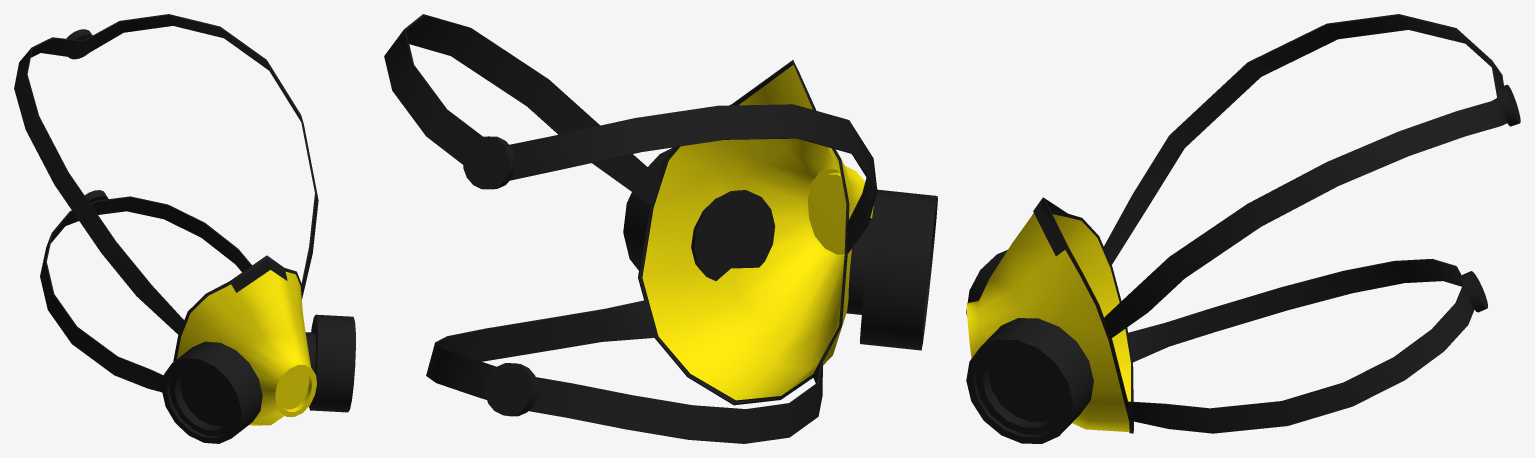
The model's file is MAscaraDosFiltros.FBX.
The picture shows the model from 3 angles, left to right: view 1: azimuth 30°, elevation 25°; view 2: azimuth 150°, elevation 25°; view 3: azimuth 270°, elevation 25°; orthographic projection. The views are drawn at different scales.
Visible parts, largest first — view 1: mascara, correas mascara; view 2: mascara, correas mascara; view 3: correas mascara, mascara.
Part boxes in pixels (<box>): mascara: <box>161,255,355,443</box>; correas mascara: <box>14,14,318,392</box>; mascara: <box>623,60,937,405</box>; correas mascara: <box>384,14,877,443</box>; correas mascara: <box>1103,14,1520,433</box>; mascara: <box>966,197,1133,443</box>.
Size of the model in its own units: 17.67 by 19.58 by 27.42.
